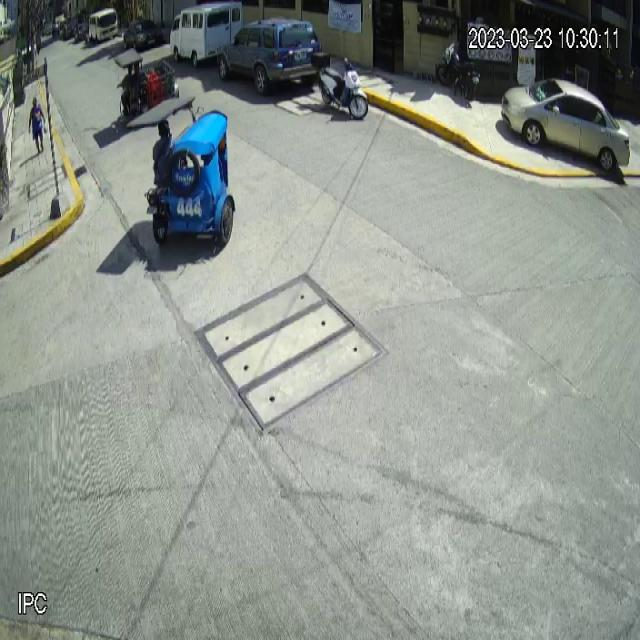Car: (502, 76, 630, 175), (218, 16, 323, 95)
Motorcycle: (312, 52, 369, 120)
Tricycle: (128, 95, 236, 248)
